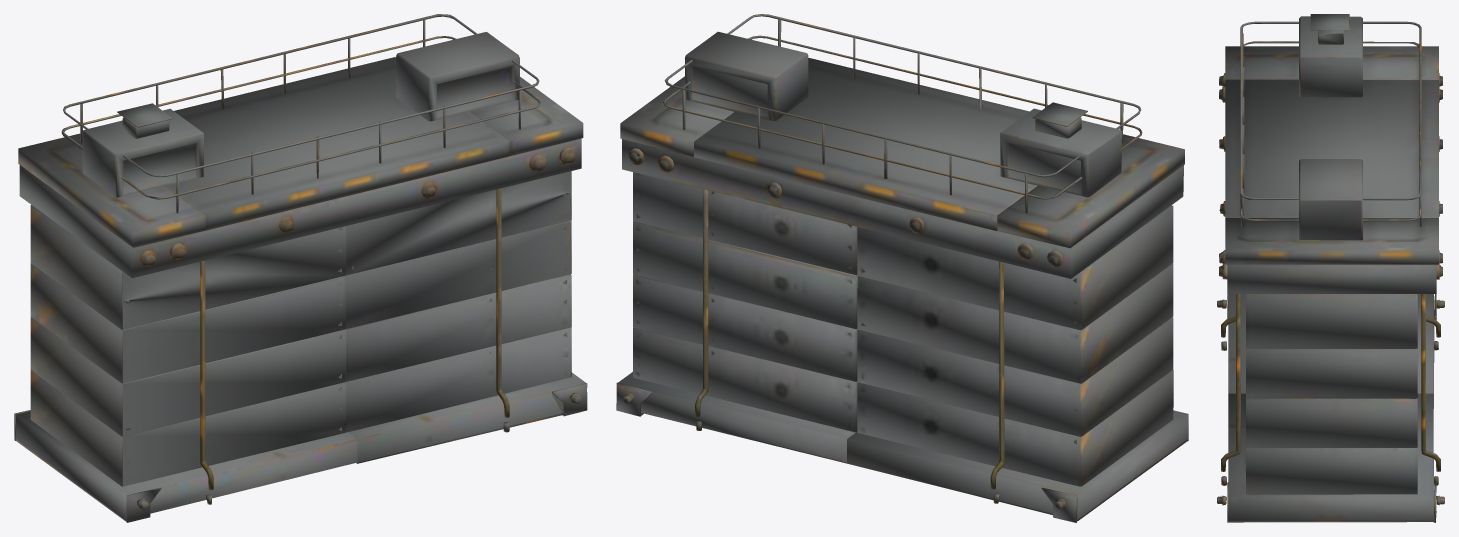
File: h_wall.glb
The picture shows the model from 3 angles, left to right: view 1: azimuth 30°, elevation 25°; view 2: azimuth 150°, elevation 25°; view 3: azimuth 270°, elevation 25°; orthographic projection. The views are drawn at different scales.
Bounding box in the file's own units: 0.9531 × 0.6899 × 0.438.
Materials: 1 (1 with a texture image).
